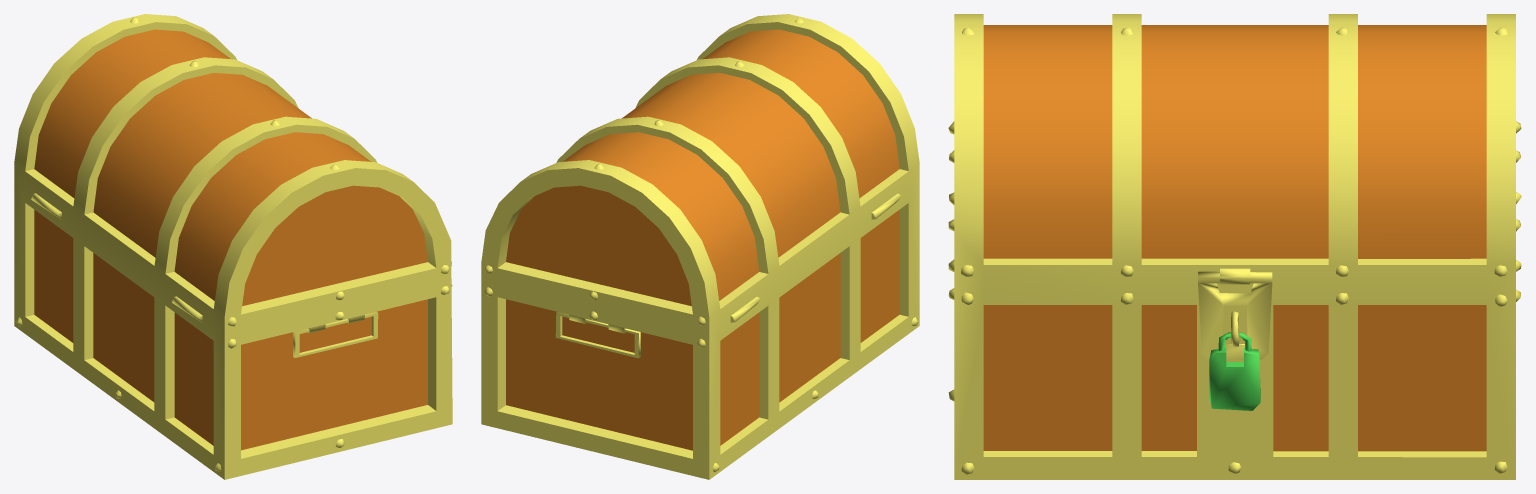
File: treasure.fbx
3 renders of one model, left to right at view 1: azimuth 30°, elevation 25°; view 2: azimuth 150°, elevation 25°; view 3: azimuth 270°, elevation 25°, orthographic. The views are drawn at different scales.
Visible parts, largest first — view 1: Dower chest; view 2: Dower chest; view 3: Dower chest.
Boxes of the visible parts, x1,y1,x2,y2 form: Dower chest: (14, 14, 452, 479); Dower chest: (481, 14, 919, 479); Dower chest: (948, 14, 1521, 479).
Size of the model in its own units: 0.6079 by 0.6652 by 0.9115.
